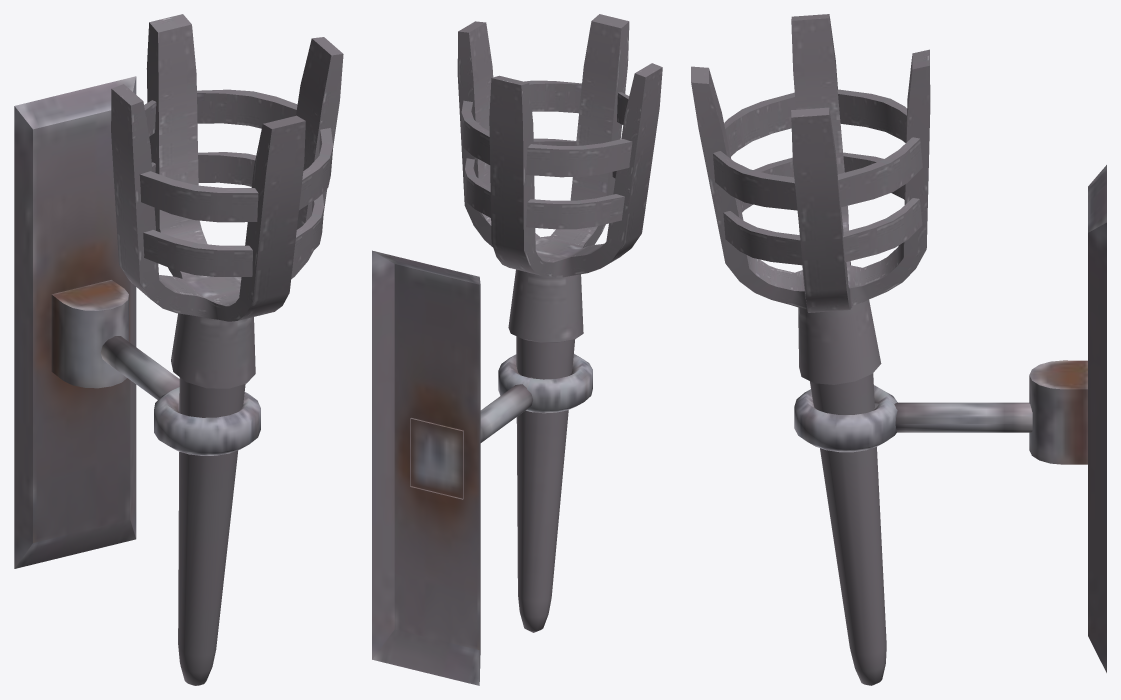
Rendered from Torch_Metal.glb.
The picture shows the model from 3 angles, left to right: view 1: azimuth 30°, elevation 25°; view 2: azimuth 150°, elevation 25°; view 3: azimuth 270°, elevation 25°; orthographic projection. The views are drawn at different scales.
Parts seen in each view (by area): view 1: Torch_Metal; view 2: Torch_Metal; view 3: Torch_Metal.
Part boxes in pixels (x1,y1,x2,y2): Torch_Metal: [14, 14, 343, 685]; Torch_Metal: [372, 14, 662, 685]; Torch_Metal: [691, 14, 1106, 685].
Bounding box in the file's own units: 0.2232 × 0.6482 × 0.3884.
1 material, 1 textured.
